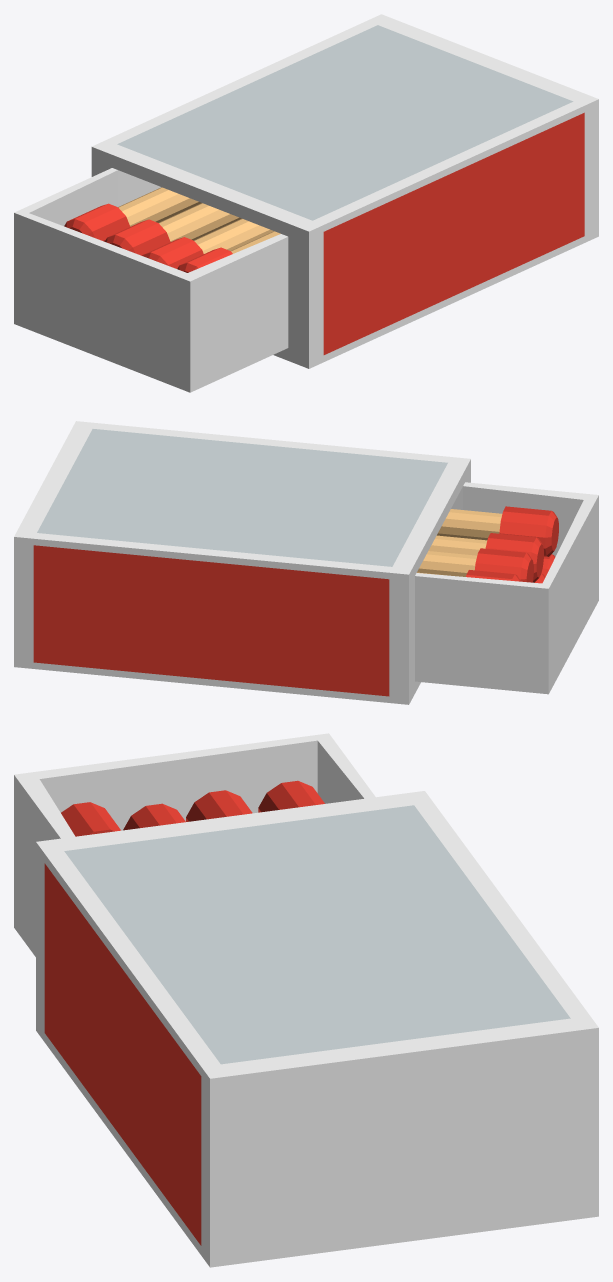
The model's file is matches.glb.
3 renders of one model, top to bottom at view 1: azimuth 30°, elevation 25°; view 2: azimuth 150°, elevation 25°; view 3: azimuth 270°, elevation 25°, orthographic. The views are drawn at different scales.
Visible parts, largest first — view 1: box of matches; view 2: box of matches; view 3: box of matches.
Boxes of the visible parts, bbox=[...] form: box of matches: bbox=[14, 14, 598, 392]; box of matches: bbox=[14, 421, 598, 704]; box of matches: bbox=[14, 733, 598, 1267].
Bounding box in the file's own units: 0.0592 × 0.0143 × 0.0403.
